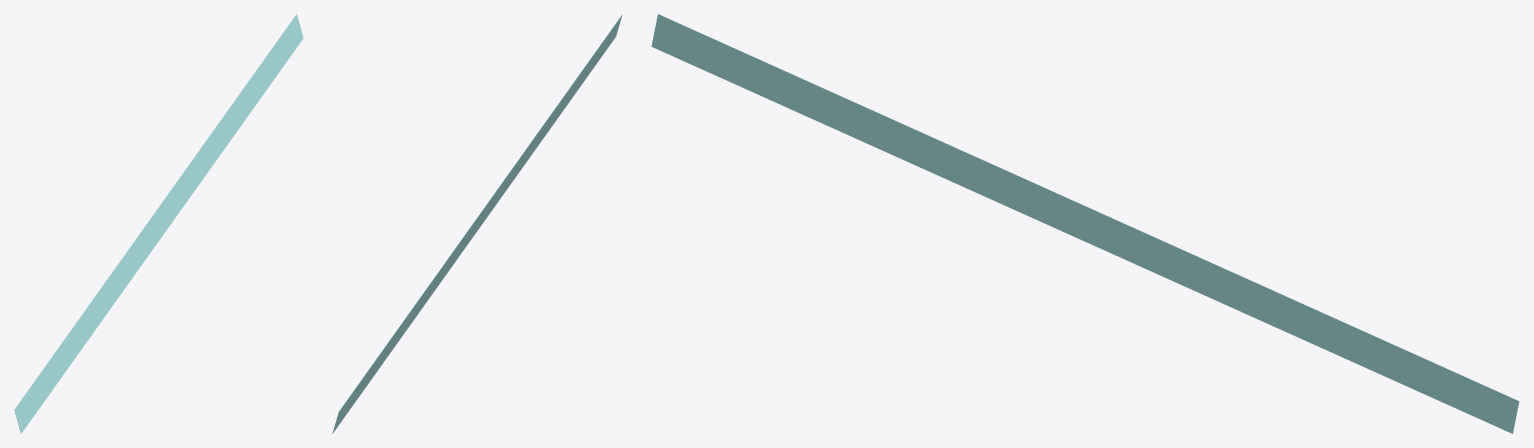
Rendered from ANGLED RAILING GLASS.fbx.
3 views of the same model, side by side, from view 1: azimuth 30°, elevation 25°; view 2: azimuth 210°, elevation 25°; view 3: azimuth 270°, elevation 25° (orthographic). The views are drawn at different scales.
Visible parts, largest first — view 1: Glass; view 2: Glass; view 3: Glass.
Boxes of the visible parts, left/top/right/bottom form: Glass: left=14, top=14, right=303, bottom=433; Glass: left=332, top=14, right=622, bottom=433; Glass: left=651, top=14, right=1519, bottom=433.
Size of the model in its own units: 18.24 by 0.6594 by 17.15.
